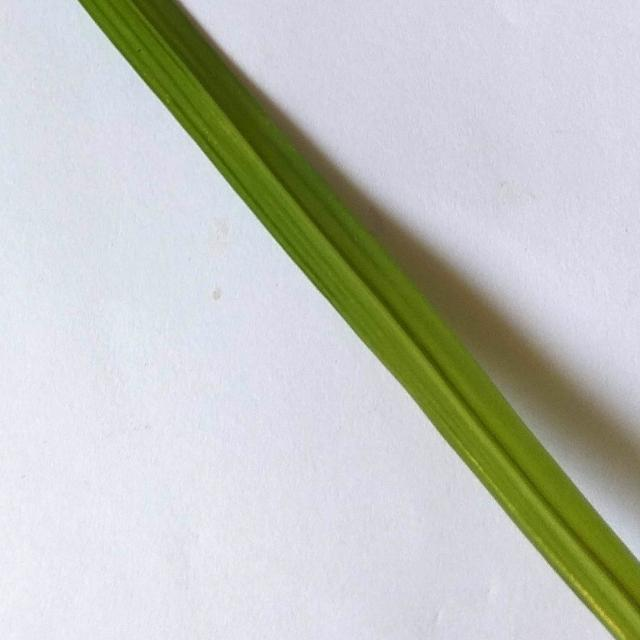Rice_Healthy: (78, 0, 640, 640)
